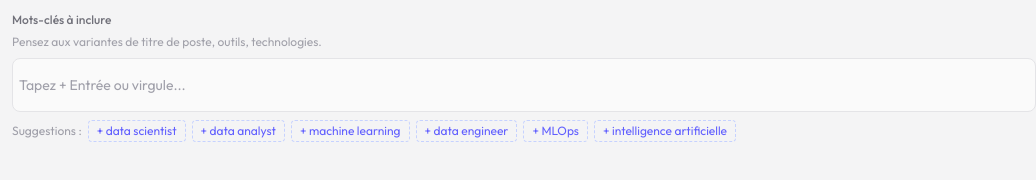
Test: StepMotsClesInclus › blocks adding a keyword already present in the exclude list
This screenshot has width=1036, height=180.
In the field: (524, 85) [19,65,1029,105], type "senior"
Then press Enter
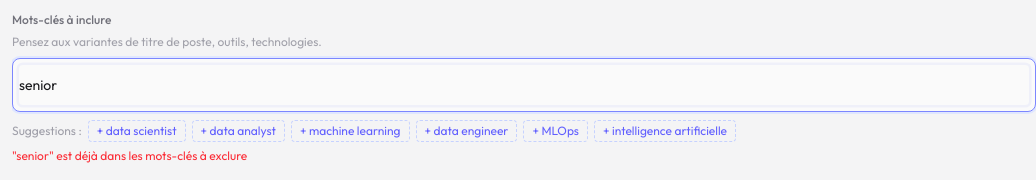
expect the text "\"senior\" est déjà dans les mots-clés à exclure" is shown: met, box [12,148,247,163]
